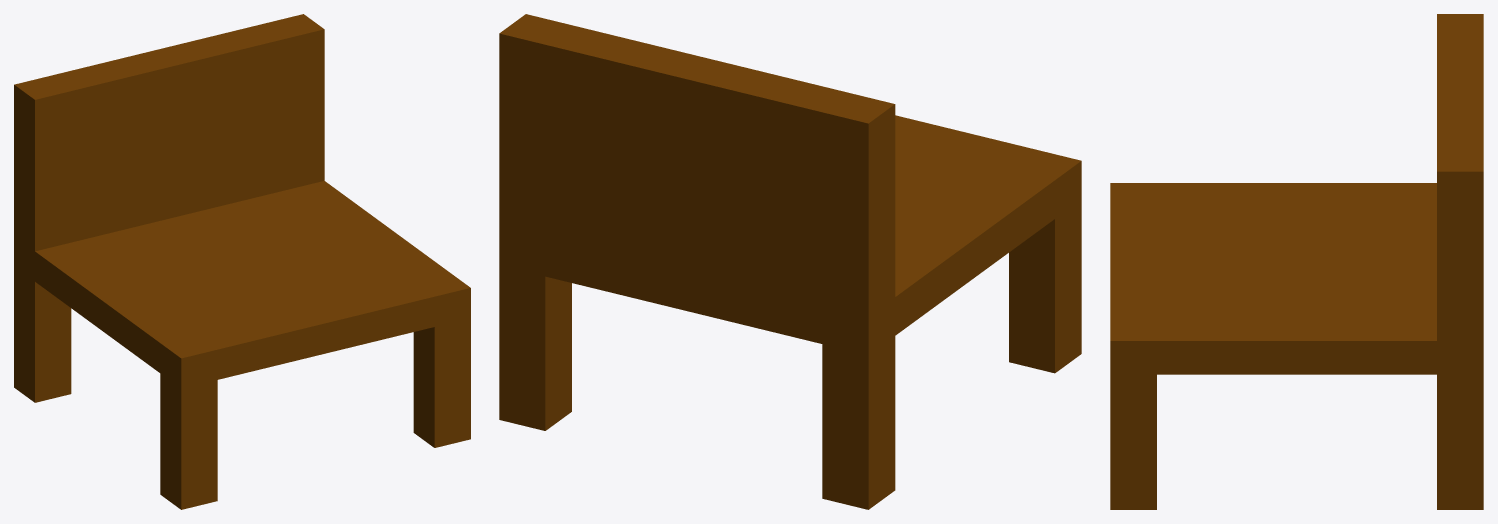
File: chair.glb
3 views of the same model, side by side, from view 1: azimuth 30°, elevation 25°; view 2: azimuth 150°, elevation 25°; view 3: azimuth 270°, elevation 25° (orthographic). The views are drawn at different scales.
Parts seen in each view (by area): view 1: chair; view 2: chair; view 3: chair.
Boxes of the visible parts, x1,y1,x2,y2 form: chair: (14, 14, 470, 509); chair: (499, 14, 1081, 509); chair: (1110, 14, 1483, 509).
Size of the model in its own units: 1 by 1 by 1.
